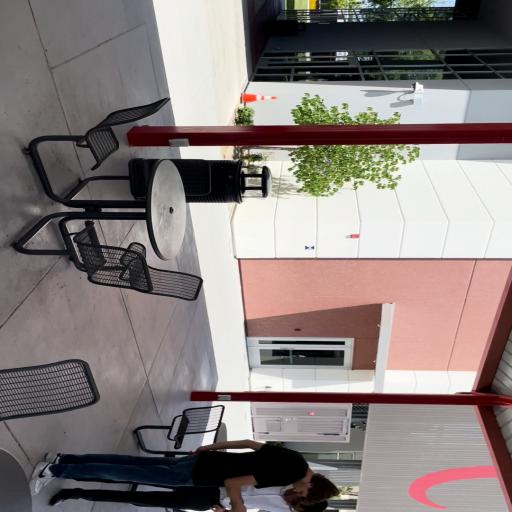target6: (305, 245, 315, 250)
